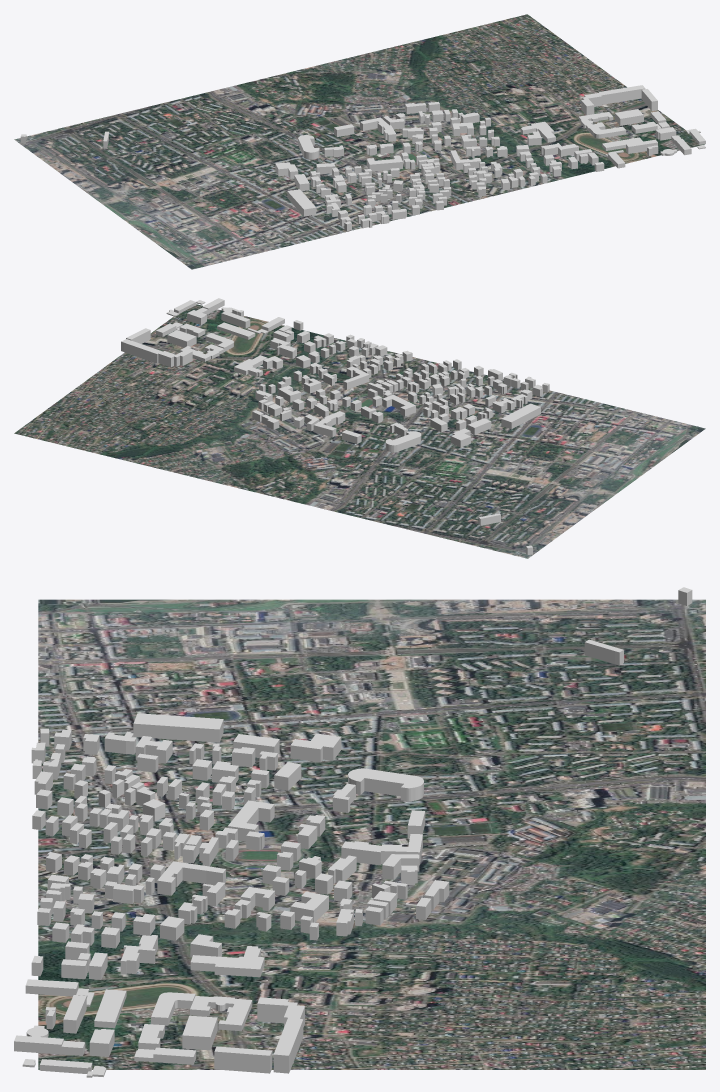
The model's file is CITY.fbx.
The picture shows the model from 3 angles, top to bottom: view 1: azimuth 30°, elevation 25°; view 2: azimuth 150°, elevation 25°; view 3: azimuth 270°, elevation 25°; orthographic projection. The views are drawn at different scales.
Parts seen in each view (by area): view 1: EXPORT_GOOGLE_SAT_WM, 190704063, 289288441, Школа №1, 191808053, ЖК «PARADISE», Хмельницький кооперативний торго; view 2: EXPORT_GOOGLE_SAT_WM, 190704063, 289288441, ЖК «PARADISE», 191808053, Школа №1; view 3: EXPORT_GOOGLE_SAT_WM, 190704063, 289288441, ЖК «PARADISE», 191808053, Хмельницький кооперативний торго, 190704042, Cонечко, 201128185, Школа №1, 191802152, 191800726 (+6 smaller).
Part boxes in pixels (bbox=[...]): EXPORT_GOOGLE_SAT_WM: bbox=[14, 14, 704, 269]; 190704063: bbox=[581, 85, 645, 115]; 289288441: bbox=[287, 189, 316, 216]; Школа №1: bbox=[366, 155, 402, 171]; 191808053: bbox=[520, 121, 555, 142]; ЖК «PARADISE»: bbox=[298, 135, 319, 159]; Хмельницький кооперативний торго: bbox=[578, 112, 613, 131]; EXPORT_GOOGLE_SAT_WM: bbox=[14, 304, 705, 558]; 190704063: bbox=[121, 339, 192, 367]; 289288441: bbox=[501, 403, 540, 429]; ЖК «PARADISE»: bbox=[385, 431, 421, 452]; 191808053: bbox=[234, 355, 267, 376]; Школа №1: bbox=[382, 394, 415, 416]; EXPORT_GOOGLE_SAT_WM: bbox=[38, 599, 705, 1069]; 190704063: bbox=[257, 997, 304, 1073]; 289288441: bbox=[133, 713, 223, 742]; ЖК «PARADISE»: bbox=[348, 768, 423, 801]; 191808053: bbox=[190, 946, 264, 977]; Хмельницький кооперативний торго: bbox=[190, 996, 252, 1031]; 190704042: bbox=[214, 1046, 272, 1073]; Cонечко: bbox=[290, 733, 341, 762]; 201128185: bbox=[157, 861, 209, 895]; Школа №1: bbox=[227, 800, 274, 841]; 191802152: bbox=[182, 1015, 217, 1050]; 191800726: bbox=[120, 935, 157, 974].
Size of the model in its own units: 155475 by 2700 by 95061.
